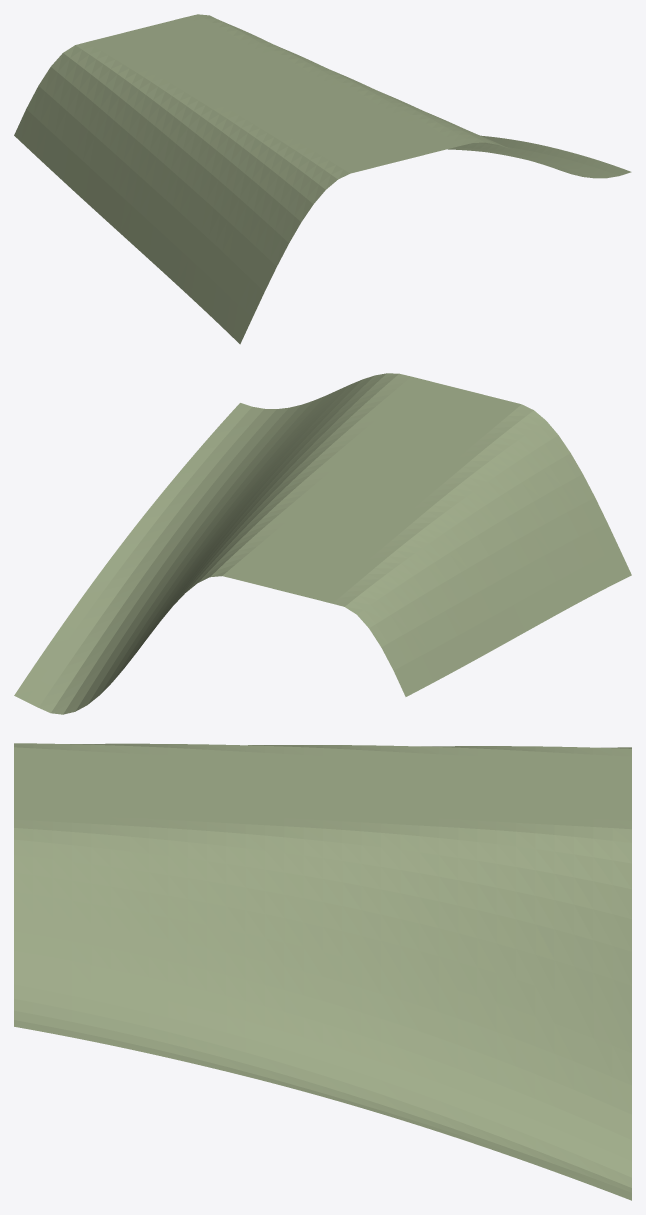
File: alpine-12-8.glb
The picture shows the model from 3 angles, top to bottom: view 1: azimuth 30°, elevation 25°; view 2: azimuth 150°, elevation 25°; view 3: azimuth 270°, elevation 25°; orthographic projection. The views are drawn at different scales.
Visible parts, largest first — view 1: alpine-12-8; view 2: alpine-12-8; view 3: alpine-12-8.
Boxes of the visible parts, x1,y1,x2,y2 form: alpine-12-8: (14, 14, 631, 344); alpine-12-8: (14, 373, 631, 714); alpine-12-8: (14, 743, 631, 1200).
Size of the model in its own units: 256 by 127 by 256.
